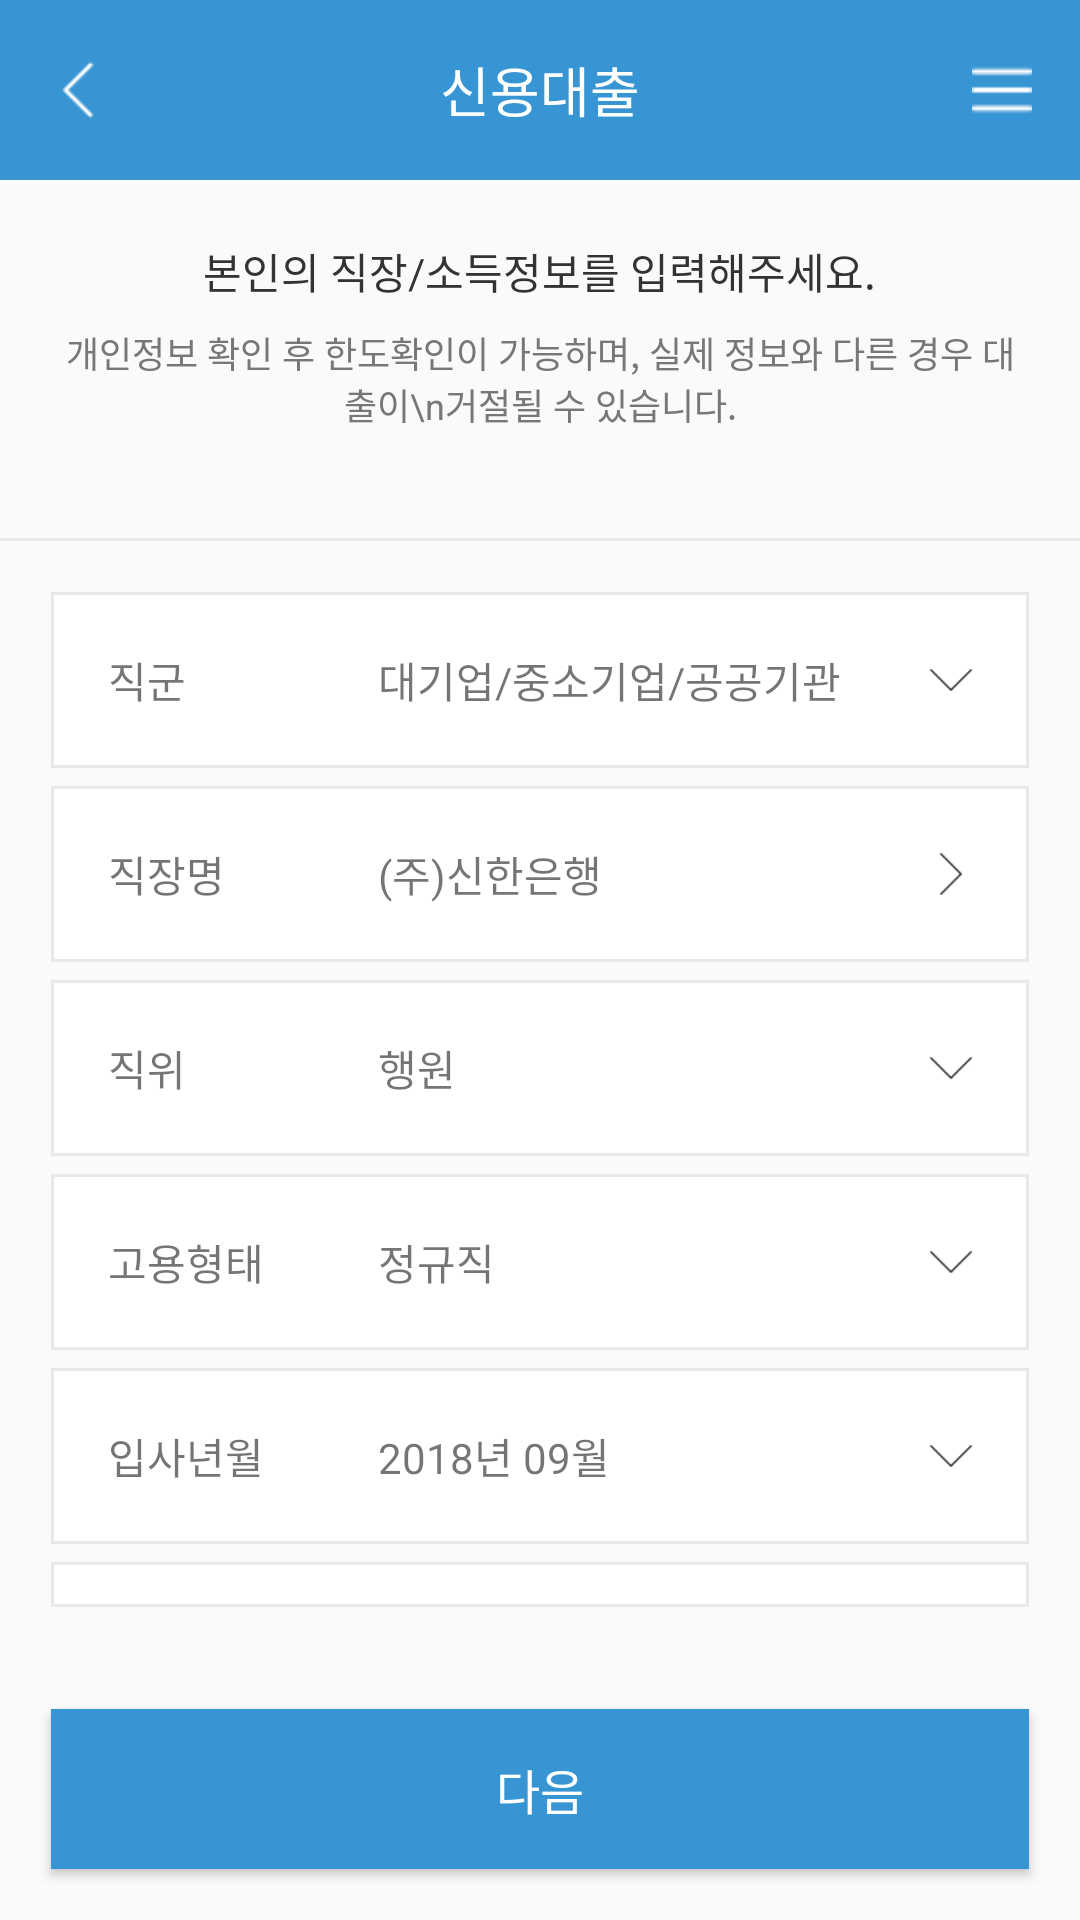

Screen size 1080*1920. Icon name, then its center in pixels as (x=x, y=y):
arrow right: (x=950, y=874)
down arrow: (x=951, y=679), (x=951, y=1067), (x=951, y=1261), (x=951, y=1455)
top back: (x=78, y=90)
top menu: (x=1002, y=90)
